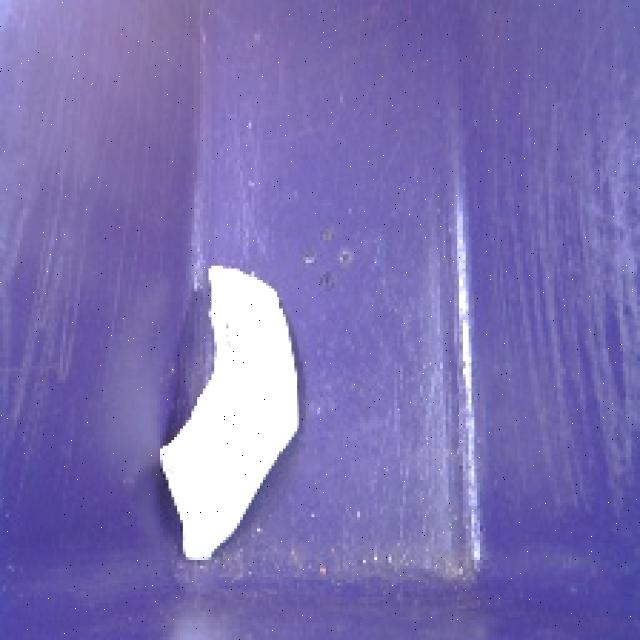china: (152, 258, 309, 572)
